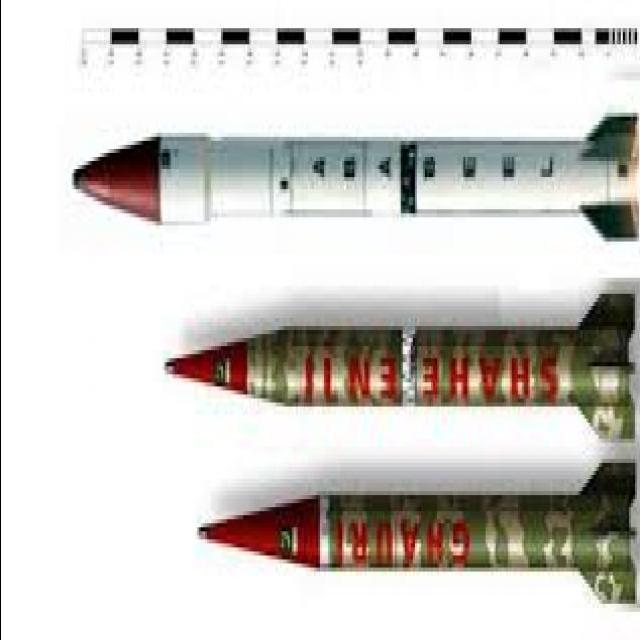Missile: (62, 87, 639, 251), (150, 284, 640, 459), (189, 460, 639, 620)
